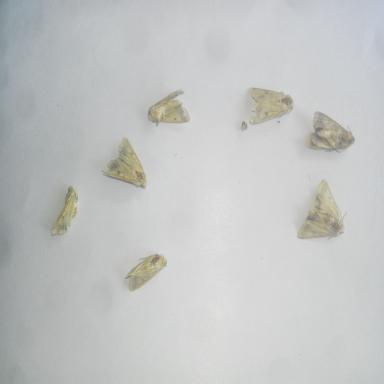abw: (294, 174, 351, 242), (100, 133, 150, 192), (303, 105, 359, 157), (246, 83, 298, 131), (120, 249, 170, 297), (143, 84, 194, 128), (47, 181, 82, 238)
